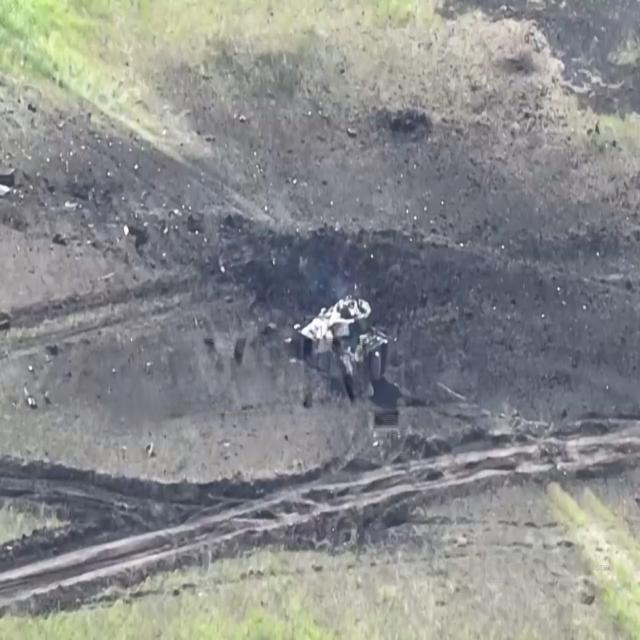AIFV: (290, 290, 391, 399)
